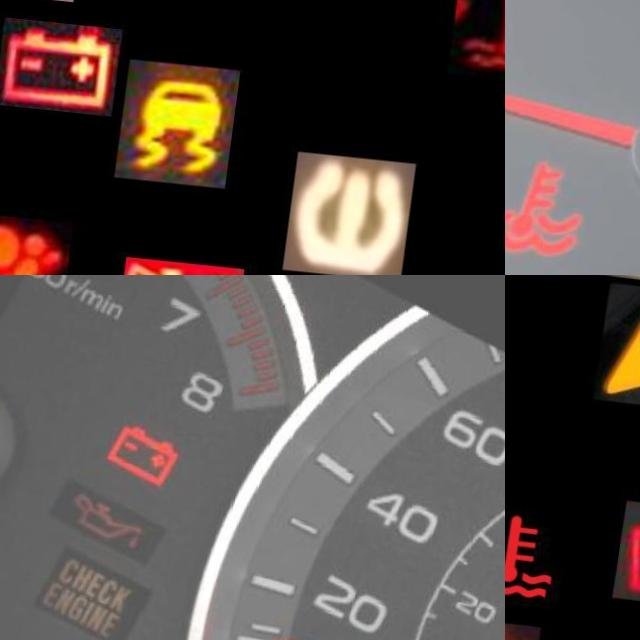Central Warning lamp: (601, 275, 640, 401)
Engine cooling system: (505, 137, 613, 275), (505, 481, 590, 611), (451, 0, 505, 71)
